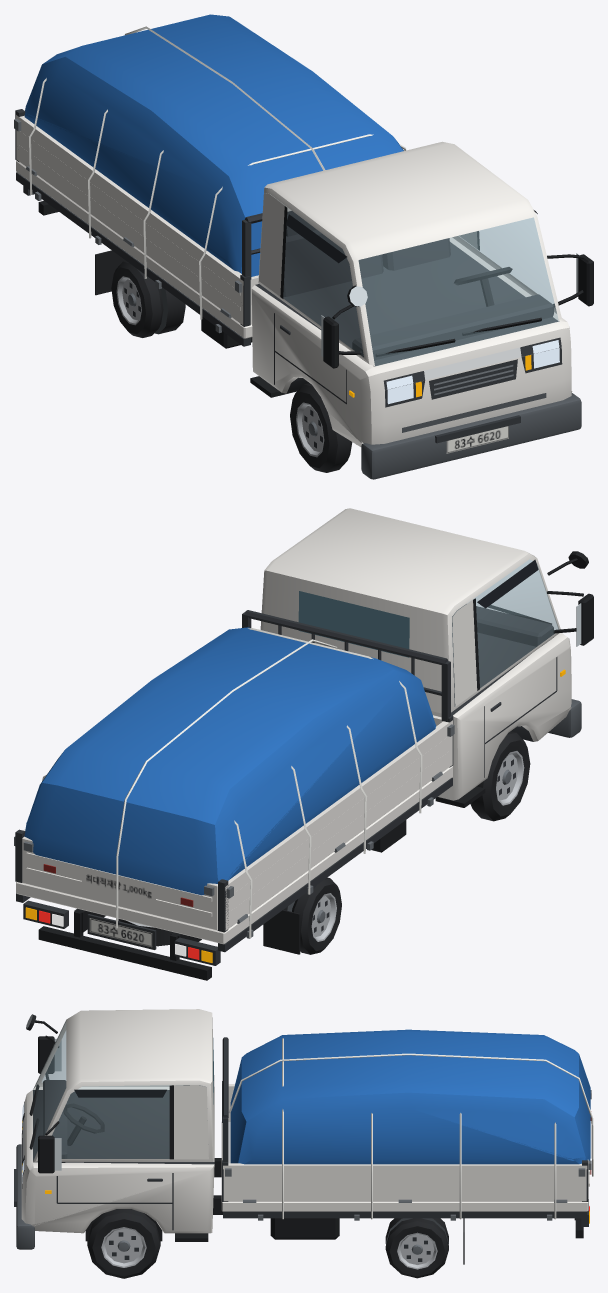
File: SC_Veh_Truck_1Ton_Tarp.gltf
3 renders of one model, top to bottom at view 1: azimuth 30°, elevation 25°; view 2: azimuth 150°, elevation 25°; view 3: azimuth 270°, elevation 25°, orthographic. The views are drawn at different scales.
Visible parts, largest first — view 1: SC_Veh_Truck_1Ton_Tarp; view 2: SC_Veh_Truck_1Ton_Tarp; view 3: SC_Veh_Truck_1Ton_Tarp.
Boxes of the visible parts, <box> form: SC_Veh_Truck_1Ton_Tarp: <box>14,14,593,479</box>; SC_Veh_Truck_1Ton_Tarp: <box>14,508,593,980</box>; SC_Veh_Truck_1Ton_Tarp: <box>14,1009,593,1278</box>.
Size of the model in its own units: 2.18 by 1.97 by 5.22.
Materials: 4 (4 with a texture image).
